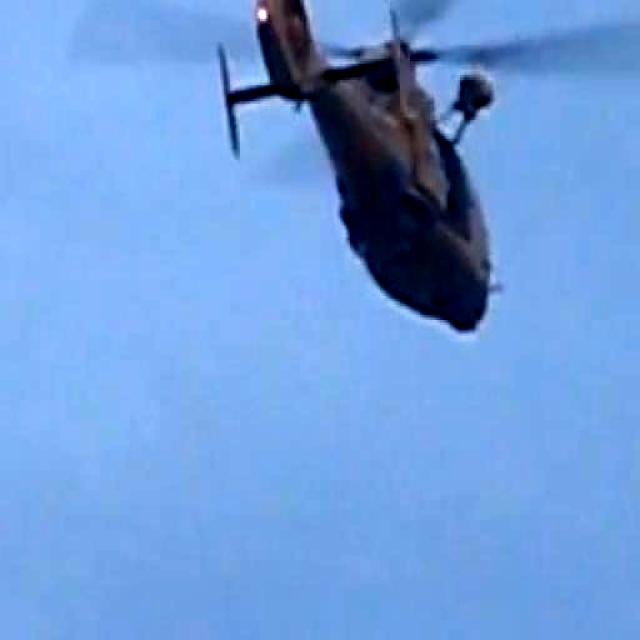drone: (162, 0, 574, 348)
